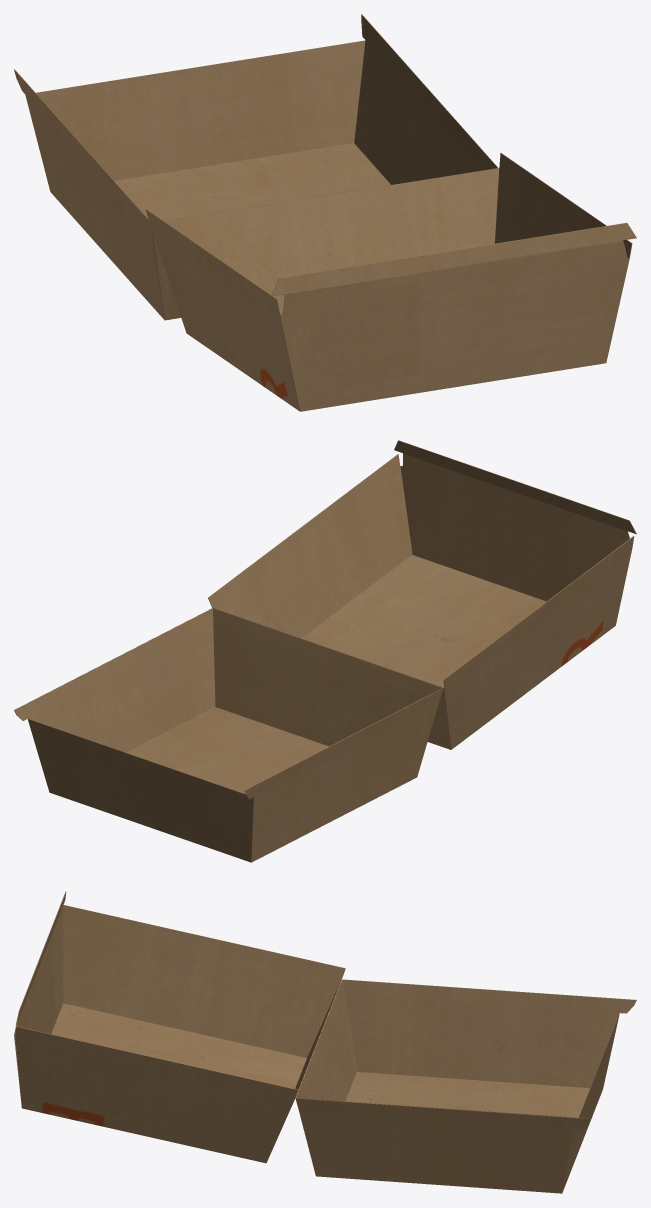
Rendered from CartonHamburger.fbx.
3 views of the same model, one above another, from view 1: azimuth 30°, elevation 25°; view 2: azimuth 150°, elevation 25°; view 3: azimuth 270°, elevation 25° (orthographic). The views are drawn at different scales.
Parts seen in each view (by area): view 1: CartonTop_01, Big_Burger_01; view 2: CartonTop_01, Big_Burger_01; view 3: CartonTop_01, Big_Burger_01.
Boxes of the visible parts, x1=… form: CartonTop_01: x1=145, y1=153, x2=636, y2=411; Big_Burger_01: x1=14, y1=14, x2=498, y2=320; CartonTop_01: x1=208, y1=440, x2=636, y2=749; Big_Burger_01: x1=14, y1=608, x2=443, y2=862; CartonTop_01: x1=14, y1=891, x2=345, y2=1163; Big_Burger_01: x1=295, y1=979, x2=636, y2=1193.
Bounding box in the file's own units: 180 × 79.17 × 292.
2 materials, 2 textured.
